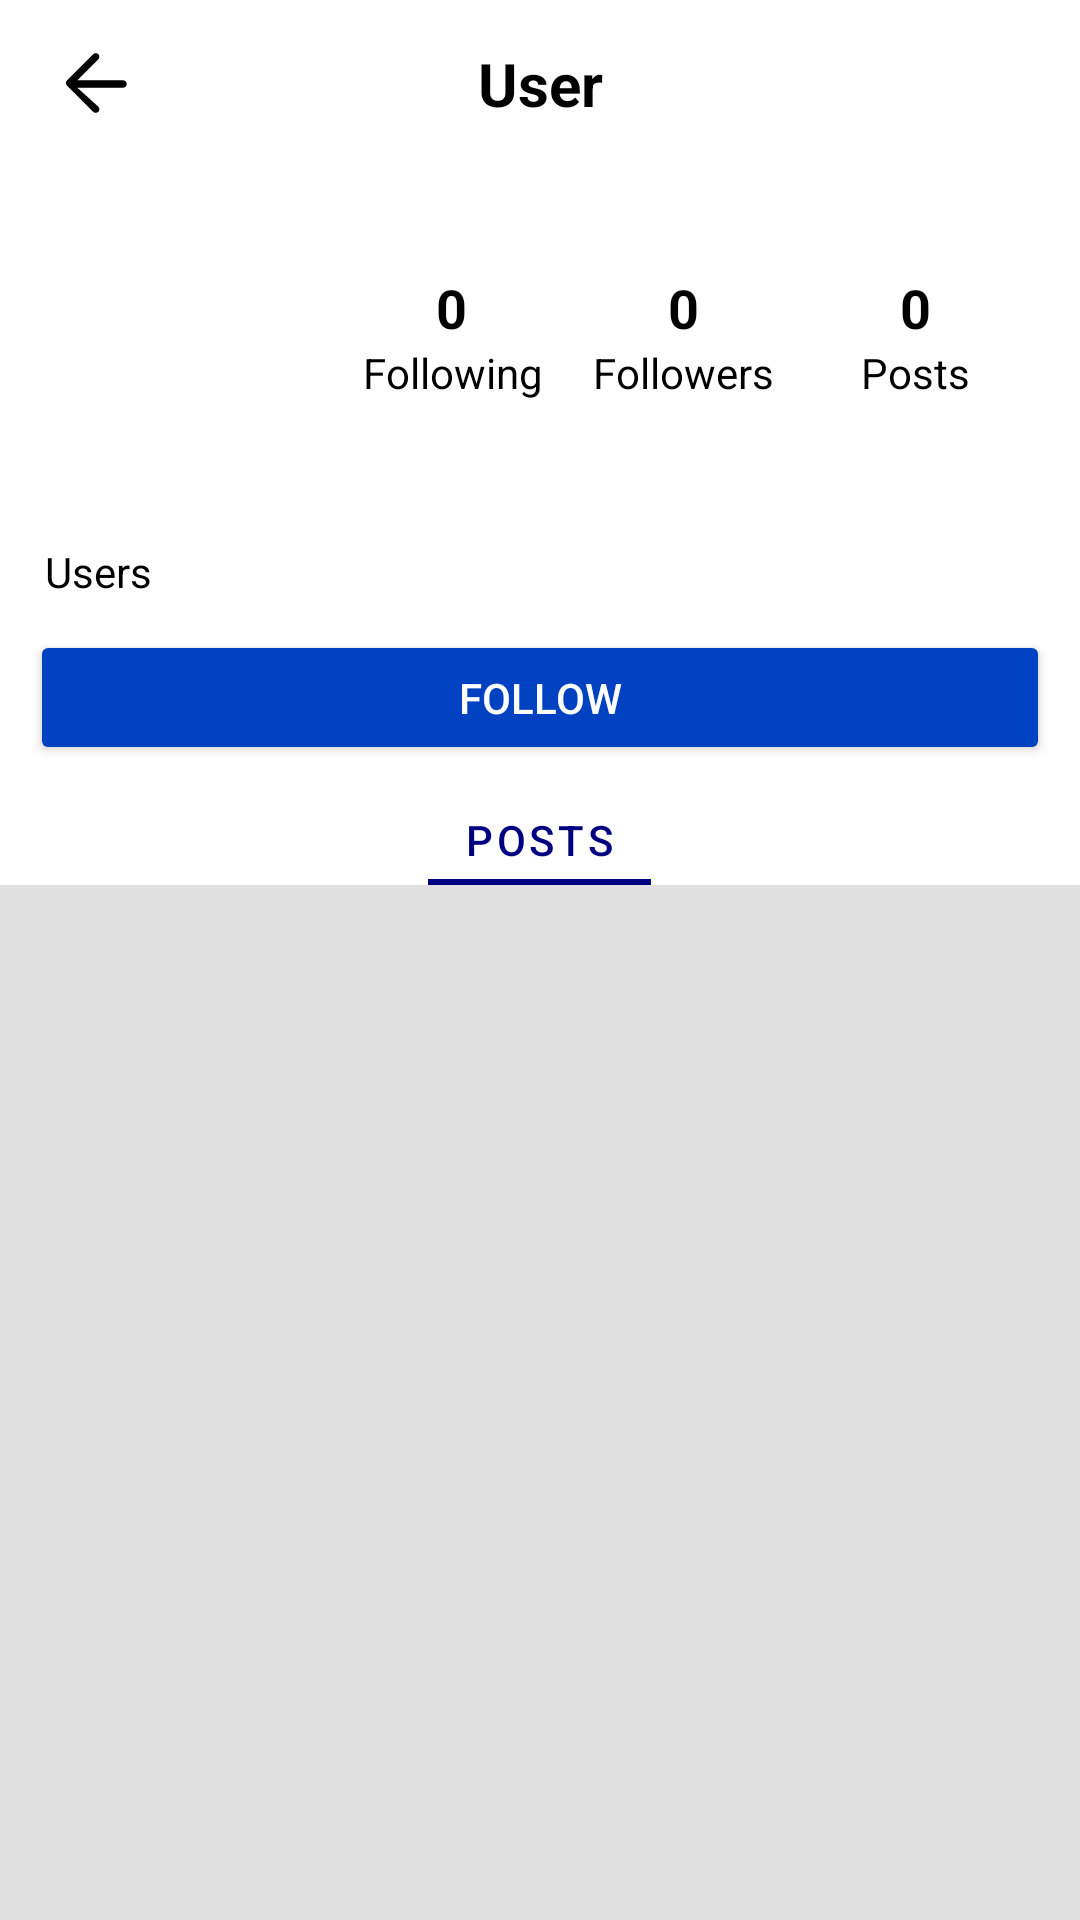

Icon click points for this 1080px x 1920px phone screenshot, format point (x, y):
arrow back: point (96, 83)
